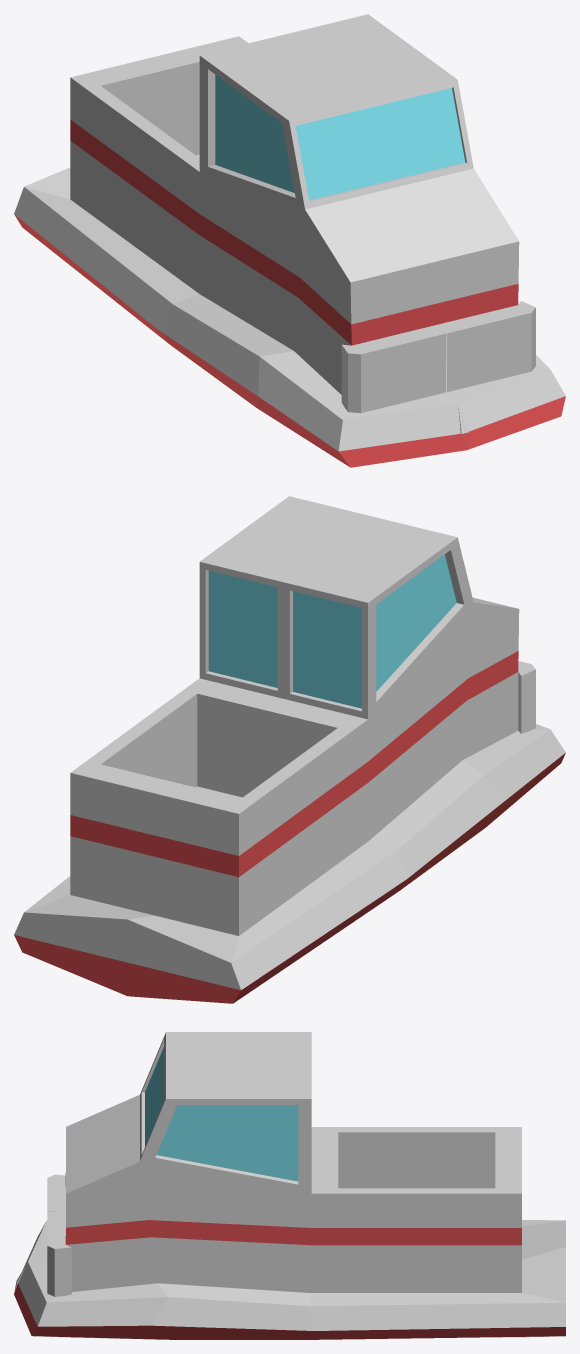
The model's file is Truck.fbx.
The picture shows the model from 3 angles, top to bottom: view 1: azimuth 30°, elevation 25°; view 2: azimuth 150°, elevation 25°; view 3: azimuth 270°, elevation 25°; orthographic projection. The views are drawn at different scales.
Parts seen in each view (by area): view 1: Truck; view 2: Truck; view 3: Truck.
Boxes of the visible parts, x1,y1,x2,y2 form: Truck: (14,14,565,467); Truck: (14,496,565,1003); Truck: (14,1032,565,1339).
Size of the model in its own units: 2.94 by 3.4 by 6.97.
